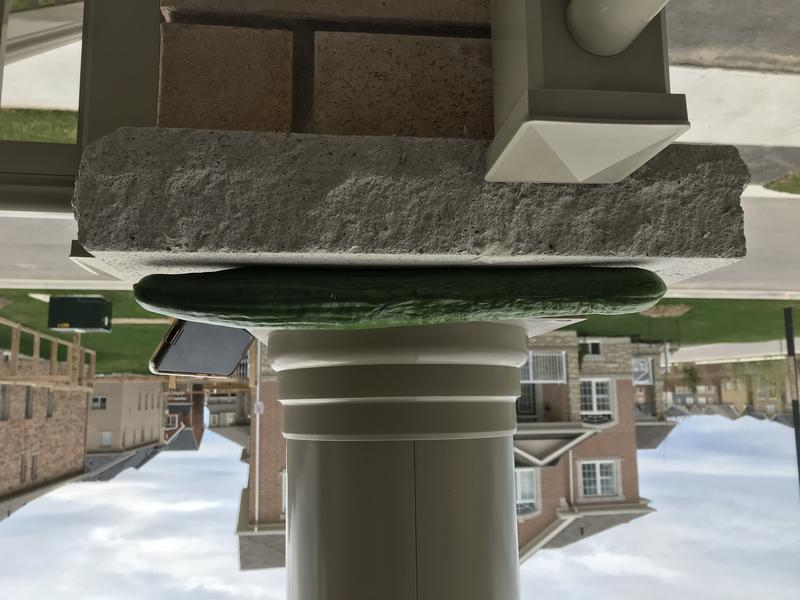cucumber: (112, 250, 682, 334)
